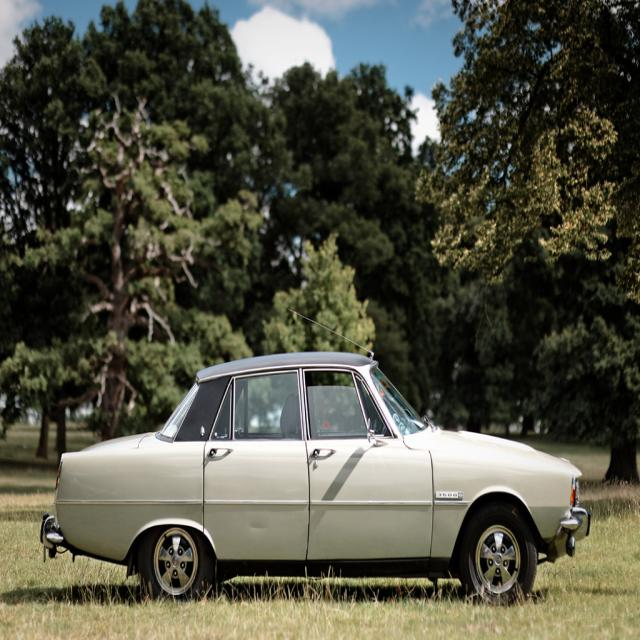car: (42, 359, 583, 607)
